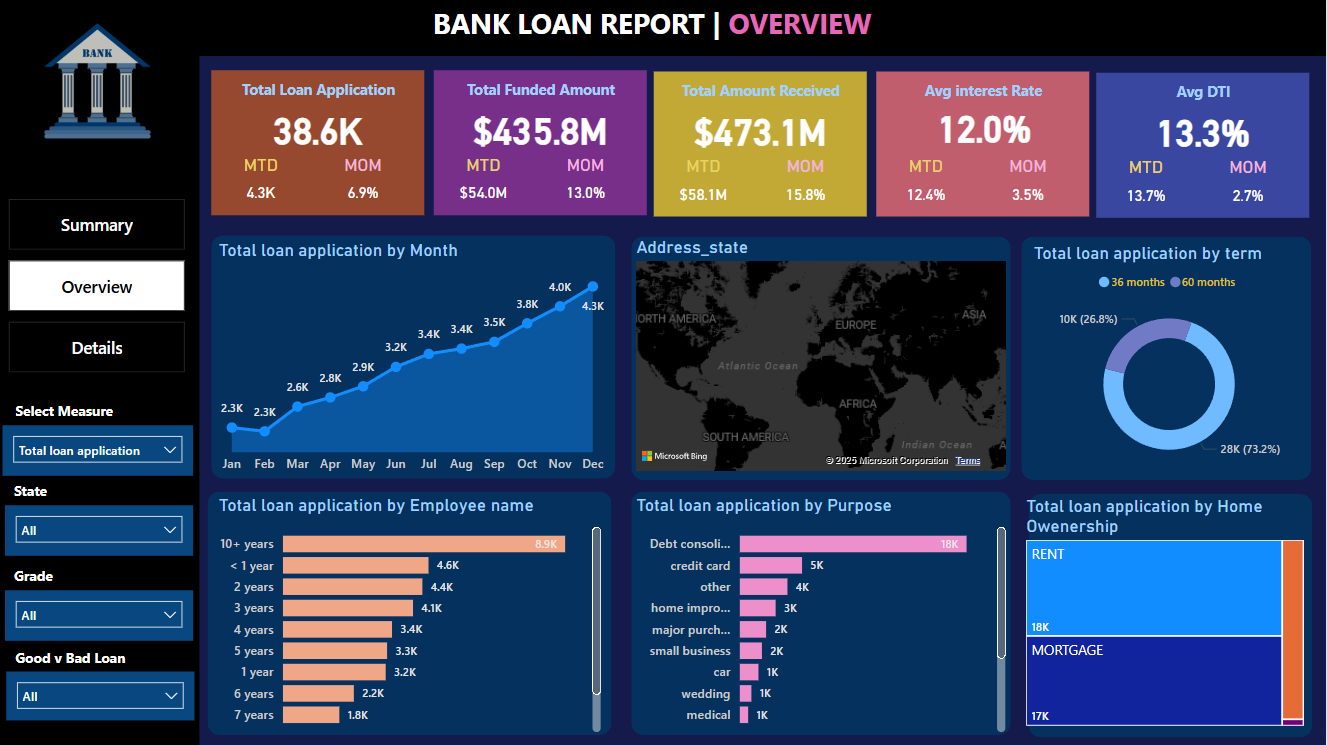

The page's visual inventory and layout, read from the dashboard file:
{"tool":"powerbi","page":{"name":"Overview","canvas":[1280,720],"ordinal":1},"visuals":[{"type":"shape","box":[0,54.9,192,665.5],"z":0},{"type":"shape","box":[204.5,68.6,205.8,140],"z":0,"group":"g1"},{"type":"shape","box":[418.9,69.2,205.8,140],"z":0,"group":"g2"},{"type":"shape","box":[631.5,70.5,205.8,140],"z":0,"group":"g3"},{"type":"shape","box":[845.3,70.5,205.8,140],"z":0,"group":"g4"},{"type":"shape","box":[1058,71.7,205.8,140],"z":0,"group":"g5"},{"type":"shape","box":[0,55,192.5,665],"z":1000},{"type":"card","fields":{"Values":["Date table.Avg interest rate"]},"box":[876.5,95.5,145.8,55.9],"z":1000,"group":"g4"},{"type":"card","fields":{"Values":["bank_loan_data.total loan application"]},"box":[234.7,96,145.5,56.3],"z":1000,"group":"g1"},{"type":"card","fields":{"Values":["bank_loan_data.Total Funded amount"]},"box":[449.1,96.6,145.5,56.3],"z":1000,"group":"g2"},{"type":"card","fields":{"Values":["bank_loan_data.Total received amount"]},"box":[661.7,97.9,145.5,56.3],"z":1000,"group":"g3"},{"type":"card","fields":{"Values":["bank_loan_data.Avg DTI"]},"box":[1088.2,99.1,145.5,56.3],"z":1000,"group":"g5"},{"type":"textbox","box":[210,72.7,194.9,57.6],"z":2000,"group":"g1"},{"type":"textbox","box":[424.4,73.3,194.9,57.6],"z":2000,"group":"g2"},{"type":"textbox","box":[637,74.6,194.9,57.6],"z":2000,"group":"g3"},{"type":"textbox","box":[850.8,74.6,194.9,57.6],"z":2000,"group":"g4"},{"type":"textbox","box":[1063.5,75.8,194.9,57.6],"z":2000,"group":"g5"},{"type":"shape","box":[203.8,227.5,390,235],"z":2000},{"type":"shape","box":[0,0,1280.3,55],"z":3000},{"type":"card","title":"MTD","fields":{"Values":["bank_loan_data.MTD loan applications"]},"box":[210,149.6,83.7,59],"z":3000,"group":"g1"},{"type":"card","title":"MTD","fields":{"Values":["bank_loan_data.MTD Funded applications"]},"box":[424.4,150.2,83.7,59],"z":3000,"group":"g2"},{"type":"card","title":"MTD","fields":{"Values":["bank_loan_data.MTD total amount received"]},"box":[637,151.5,83.7,59],"z":3000,"group":"g3"},{"type":"card","title":"MTD","fields":{"Values":["Date table.MTD avg int rate"]},"box":[850.8,151.5,83.7,59],"z":3000,"group":"g4"},{"type":"card","title":"MTD","fields":{"Values":["bank_loan_data.MTD avg dti"]},"box":[1063.5,152.7,83.7,59],"z":3000,"group":"g5"},{"type":"textbox","box":[413,0,450.6,59.5],"z":4000},{"type":"card","title":"MOM","fields":{"Values":["bank_loan_data.MOM loan application"]},"box":[307.4,149.6,87.8,59],"z":4000,"group":"g1"},{"type":"card","title":"MOM","fields":{"Values":["bank_loan_data.MOM total funded amount"]},"box":[521.8,150.2,87.8,59],"z":4000,"group":"g2"},{"type":"card","title":"MOM","fields":{"Values":["bank_loan_data.MOM total amount received"]},"box":[734.4,151.5,87.8,59],"z":4000,"group":"g3"},{"type":"card","title":"MOM","fields":{"Values":["bank_loan_data.MOM avg int rate"]},"box":[948.2,151.5,87.8,59],"z":4000,"group":"g4"},{"type":"card","title":"MOM","fields":{"Values":["bank_loan_data.MOM total avg dti"]},"box":[1160.9,152.7,87.8,59],"z":4000,"group":"g5"},{"type":"group","id":"g1","title":"Group 1","box":[204.5,68.6,205.8,140],"z":5000},{"type":"group","id":"g2","title":"Group 1","box":[418.9,69.2,204.1,139.7],"z":6000},{"type":"group","id":"g3","title":"Group 1","box":[631.5,70.5,205.3,139.7],"z":7000},{"type":"group","id":"g4","title":"Group 1","box":[845.3,70.5,205.8,140],"z":8000},{"type":"group","id":"g5","title":"Group 1","box":[1058,71.7,204.1,139.7],"z":9000},{"type":"slicer","fields":{"Values":["bank_loan_data.address_state"]},"box":[5.3,489,181.2,48.8],"z":10000},{"type":"textbox","box":[8.9,460.8,153.8,27.5],"z":11000},{"type":"slicer","fields":{"Values":["bank_loan_data.grade"]},"box":[5.3,570.2,181.2,48.8],"z":12000},{"type":"slicer","fields":{"Values":["bank_loan_data.Good loan vs Bad loan"]},"box":[6.3,648.7,181.2,47.5],"z":13000},{"type":"textbox","box":[9.9,621,153.8,27.5],"z":14000},{"type":"textbox","box":[8.9,543.2,153.8,27.5],"z":15000},{"type":"areaChart","fields":{"Y":["bank_loan_data.Total loan application"],"Category":["Date table.Month"]},"box":[206.2,231.2,383.8,235],"z":16000},{"type":"slicer","fields":{"Values":["Select Measure 2.Select Measure"]},"box":[2.8,411.5,183.8,48.8],"z":17000},{"type":"textbox","box":[10.3,384,162.5,27.5],"z":18000},{"type":"shape","box":[608.8,228.8,366.2,235],"z":19000},{"type":"shape","box":[986.2,228.8,280,235],"z":21000},{"type":"donutChart","fields":{"Y":["bank_loan_data.Total loan application"],"Category":["bank_loan_data.term"]},"box":[992.5,235,271.2,226.2],"z":22000},{"type":"shape","box":[200,475,390,235],"z":23000},{"type":"barChart","fields":{"Y":["bank_loan_data.Total loan application"],"Category":["bank_loan_data.emp_length"]},"box":[206.2,477.5,378.8,235],"z":24000},{"type":"shape","box":[608.8,475,366.2,235],"z":25000},{"type":"barChart","fields":{"Y":["bank_loan_data.Total loan application"],"Category":["bank_loan_data.purpose"]},"box":[608.8,477.5,366.2,235],"z":26000},{"type":"shape","box":[992.5,477.5,273.8,235],"z":27000},{"type":"treemap","fields":{"Values":["bank_loan_data.Total loan application"],"Group":["bank_loan_data.home_ownership"]},"box":[986.2,478.8,277.5,227.5],"z":28000},{"type":"pageNavigator","box":[8.8,192.5,170,167.5],"z":29000},{"type":"image","box":[0,0,187.5,157.5],"z":30000},{"type":"filledMap","title":"Address_state","fields":{"Category":["bank_loan_data.address_state"]},"box":[609.3,229.2,366.8,231.6],"z":30001}]}

Visuals, with their boxes in screenshot pixels (x1, y1, x2, y2), scaled from the page's 1280x720 canvas onto the 1327x745 screenshot:
shape: (0, 57, 199, 744)
shape: (212, 71, 425, 216)
shape: (434, 72, 648, 216)
shape: (655, 73, 868, 218)
shape: (876, 73, 1090, 218)
shape: (1097, 74, 1310, 219)
shape: (0, 57, 200, 744)
card - Date table.Avg interest rate: (909, 99, 1060, 157)
card - bank_loan_data.total loan application: (243, 99, 394, 158)
card - bank_loan_data.Total Funded amount: (466, 100, 616, 158)
card - bank_loan_data.Total received amount: (686, 101, 837, 160)
card - bank_loan_data.Avg DTI: (1128, 103, 1279, 161)
textbox: (218, 75, 420, 135)
textbox: (440, 76, 642, 135)
textbox: (660, 77, 862, 137)
textbox: (882, 77, 1084, 137)
textbox: (1103, 78, 1305, 138)
shape: (211, 235, 616, 479)
shape: (0, 0, 1326, 57)
"MTD" card: (218, 155, 304, 216)
"MTD" card: (440, 155, 527, 216)
"MTD" card: (660, 157, 747, 218)
"MTD" card: (882, 157, 969, 218)
"MTD" card: (1103, 158, 1189, 219)
textbox: (428, 0, 895, 62)
"MOM" card: (319, 155, 410, 216)
"MOM" card: (541, 155, 632, 216)
"MOM" card: (761, 157, 852, 218)
"MOM" card: (983, 157, 1074, 218)
"MOM" card: (1204, 158, 1295, 219)
"Group 1" group: (212, 71, 425, 216)
"Group 1" group: (434, 72, 646, 216)
"Group 1" group: (655, 73, 868, 217)
"Group 1" group: (876, 73, 1090, 218)
"Group 1" group: (1097, 74, 1308, 219)
slicer - bank_loan_data.address_state: (5, 506, 193, 556)
textbox: (9, 477, 169, 505)
slicer - bank_loan_data.grade: (5, 590, 193, 640)
slicer - bank_loan_data.Good loan vs Bad loan: (7, 671, 194, 720)
textbox: (10, 643, 170, 671)
textbox: (9, 562, 169, 591)
areaChart - bank_loan_data.Total loan application x Date table.Month: (214, 239, 612, 482)
slicer - Select Measure 2.Select Measure: (3, 426, 193, 476)
textbox: (11, 397, 179, 426)
shape: (631, 237, 1011, 480)
shape: (1022, 237, 1313, 480)
donutChart - bank_loan_data.Total loan application x bank_loan_data.term: (1029, 243, 1310, 477)
shape: (207, 491, 612, 735)
barChart - bank_loan_data.Total loan application x bank_loan_data.emp_length: (214, 494, 606, 737)
shape: (631, 491, 1011, 735)
barChart - bank_loan_data.Total loan application x bank_loan_data.purpose: (631, 494, 1011, 737)
shape: (1029, 494, 1313, 737)
treemap - bank_loan_data.Total loan application x bank_loan_data.home_ownership: (1022, 495, 1310, 731)
pageNavigator: (9, 199, 185, 373)
image: (0, 0, 194, 163)
"Address_state" filledMap: (632, 237, 1012, 477)
